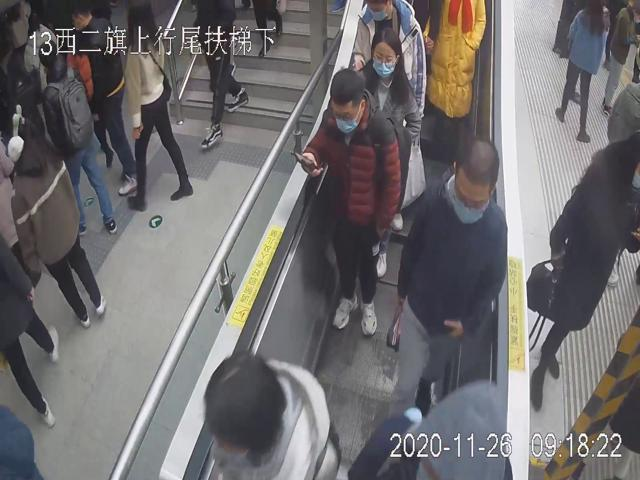person: (387, 136, 510, 418), (298, 64, 406, 340), (352, 25, 422, 194), (351, 0, 429, 121)
